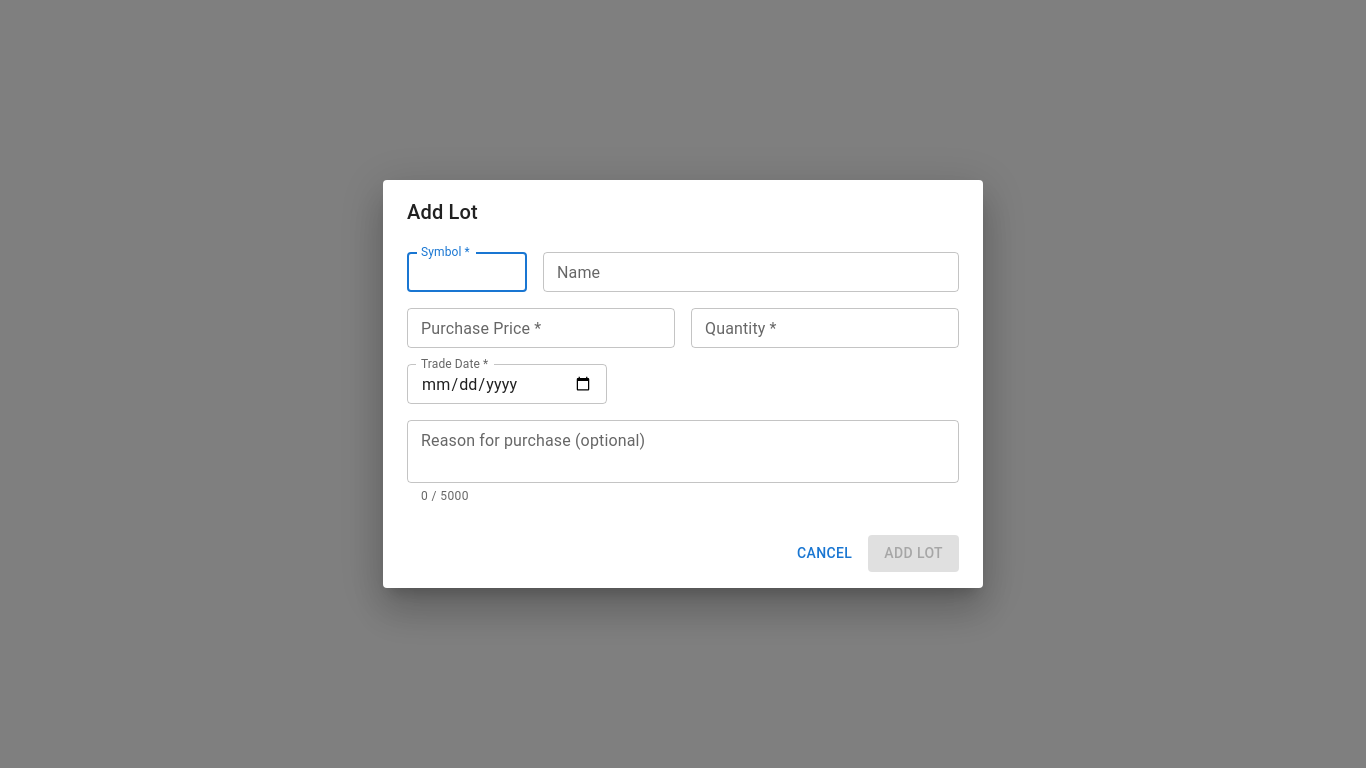
Test: AddLotDialog › validates required fields before submitting
In the field labelled "Symbol *": [467, 272] box [407,252,527,292], type "AAPL"
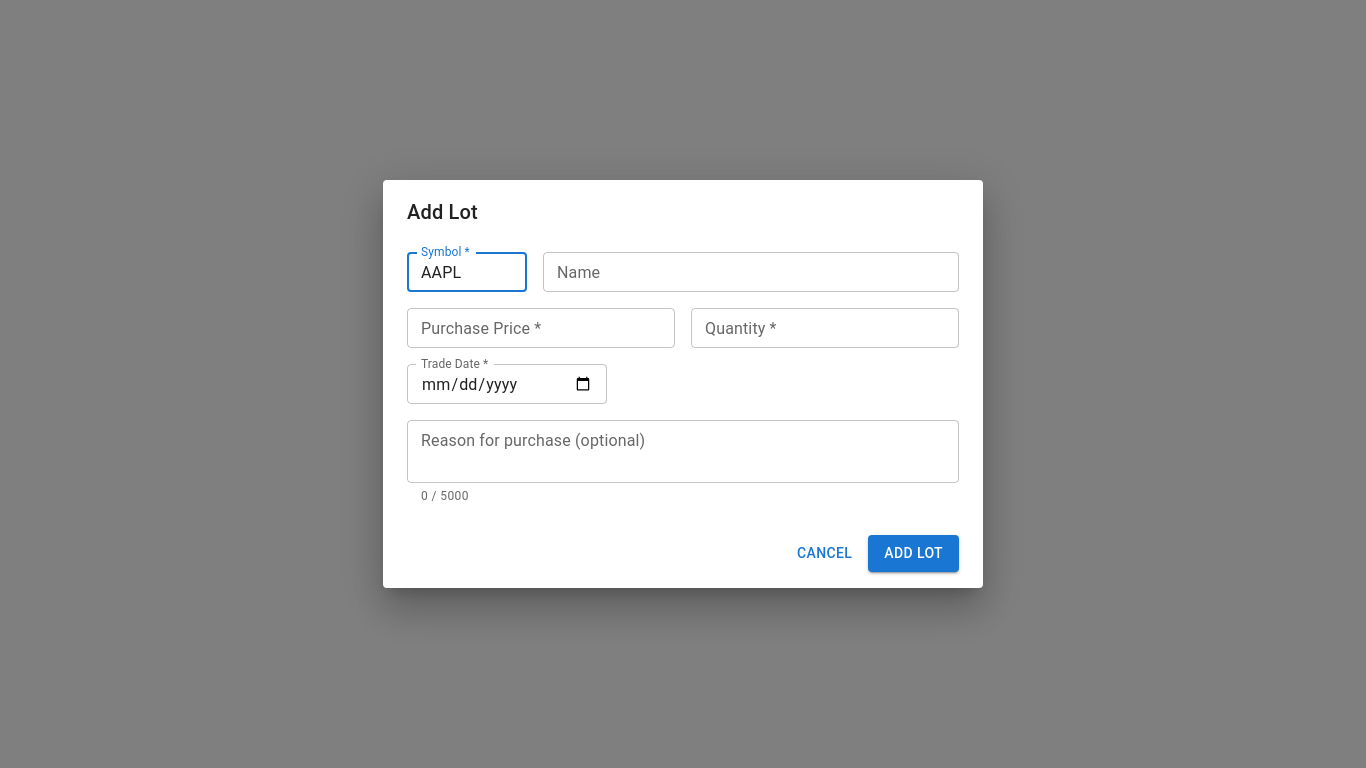
Click the button "Add Lot": [914, 553] box [868,535,959,572]
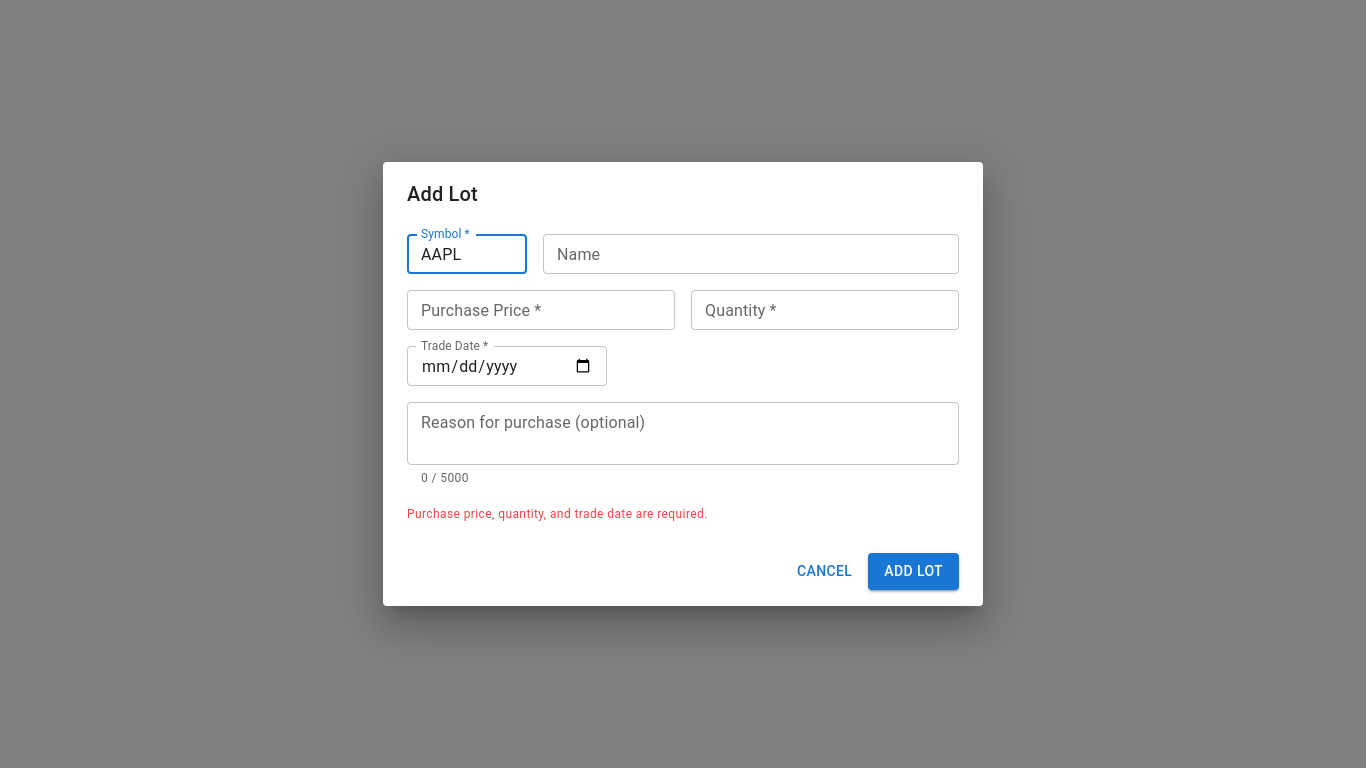
Check: the text "Purchase price, quantity, and trade date are required." is shown, box [407,507,708,521]
